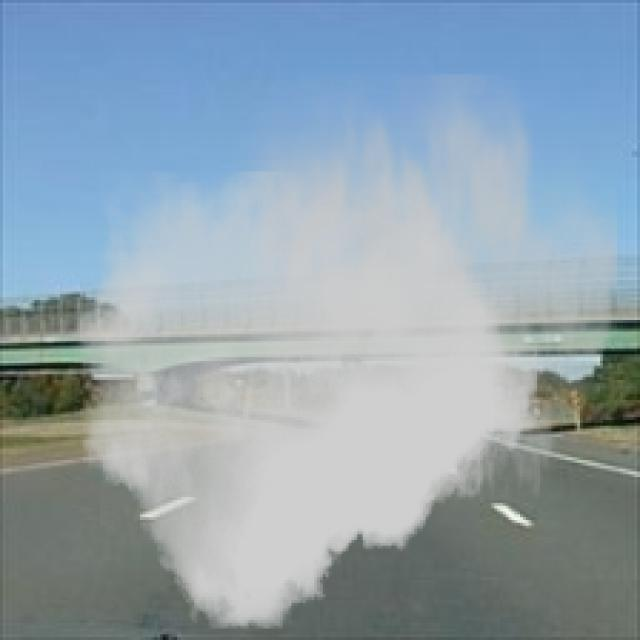Smoke: (74, 74, 617, 629)
